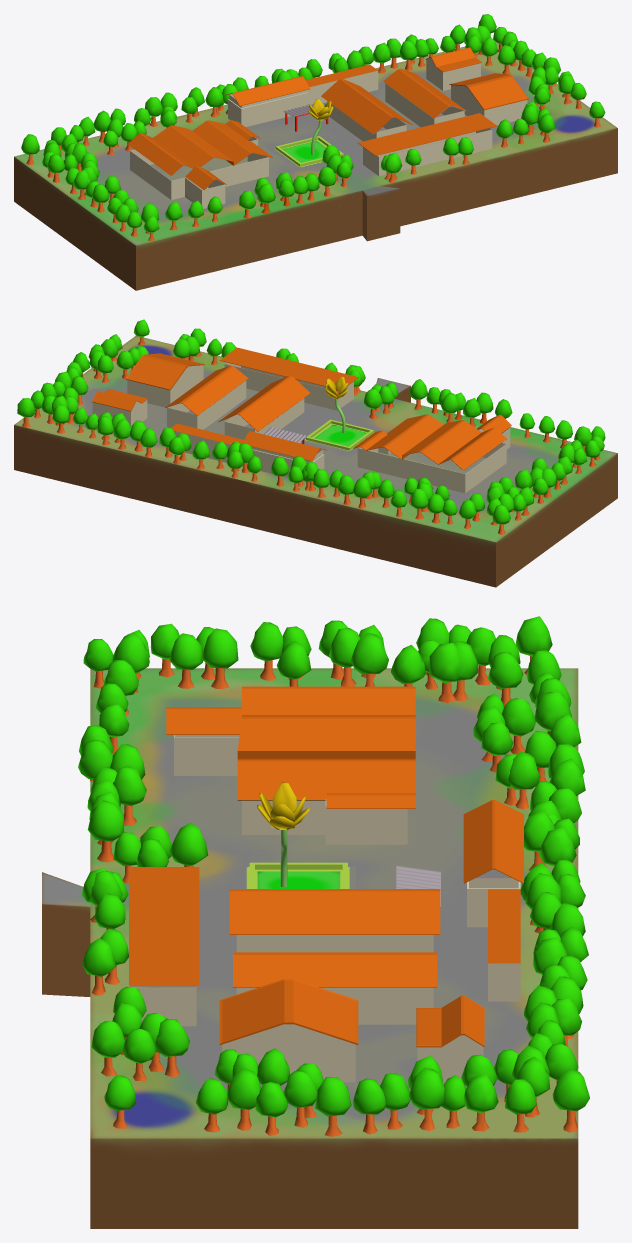
The model's file is 3DMap.fbx.
3 renders of one model, top to bottom at view 1: azimuth 30°, elevation 25°; view 2: azimuth 150°, elevation 25°; view 3: azimuth 270°, elevation 25°, orthographic. The views are drawn at different scales.
Parts seen in each view (by area): view 1: Plane.001, BAT1234, BAT11, BAT7, BAT10, BAT8, BAT6, BAT9, ABRI, Circle; view 2: Plane.001, BAT1234, BAT11, BAT8, BAT7, BAT10, BAT6, BAT9, ABRI, Circle; view 3: Plane.001, BAT1234, BAT7, BAT10, BAT11, BAT8, BAT6, BAT9, ABRI, Circle, OriginalTree.018, OriginalTree.114 (+52 smaller).
Boxes of the visible parts, <box> form: Plane.001: <box>14,41,617,290</box>; BAT1234: <box>128,120,272,208</box>; BAT11: <box>358,113,496,176</box>; BAT7: <box>321,78,412,141</box>; BAT10: <box>449,73,528,125</box>; BAT8: <box>383,68,466,127</box>; BAT6: <box>225,76,310,126</box>; BAT9: <box>425,47,481,90</box>; ABRI: <box>305,64,378,105</box>; Circle: <box>308,99,333,154</box>; Plane.001: <box>14,336,617,587</box>; BAT1234: <box>353,414,511,493</box>; BAT11: <box>220,347,358,410</box>; BAT8: <box>165,365,248,429</box>; BAT7: <box>218,375,310,439</box>; BAT10: <box>125,353,204,407</box>; BAT6: <box>242,431,327,481</box>; BAT9: <box>92,389,147,428</box>; ABRI: <box>171,423,243,466</box>; Circle: <box>325,376,348,433</box>; Plane.001: <box>42,668,578,1228</box>; BAT1234: <box>166,686,415,844</box>; BAT7: <box>229,889,440,952</box>; BAT10: <box>219,979,358,1082</box>; BAT11: <box>129,867,199,1026</box>; BAT8: <box>233,952,436,1024</box>; BAT6: <box>463,800,523,927</box>; BAT9: <box>416,995,484,1084</box>; ABRI: <box>488,889,520,1001</box>; Circle: <box>257,782,310,887</box>; OriginalTree.018: <box>87,800,124,862</box>; OriginalTree.114: <box>552,1068,589,1132</box>.
Bounding box in the file's own units: 1281 × 242 × 624.
Materials: 3 (2 with a texture image).
